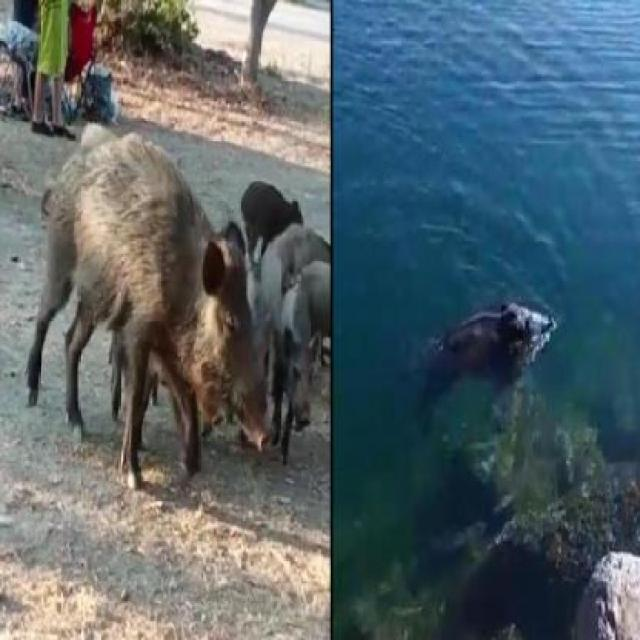wildboar: (20, 119, 278, 506), (245, 202, 342, 478), (404, 284, 562, 444), (232, 170, 308, 281)
